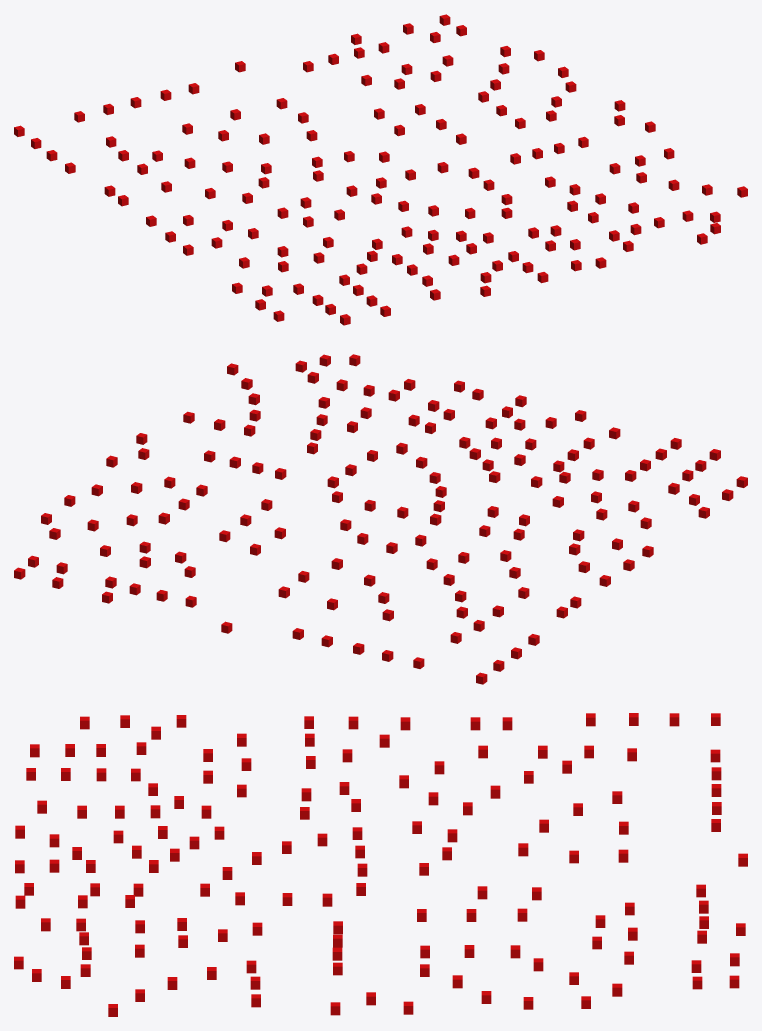
The model's file is Cube_Loca2.glb.
3 views of the same model, one above another, from view 1: azimuth 30°, elevation 25°; view 2: azimuth 150°, elevation 25°; view 3: azimuth 270°, elevation 25° (orthographic). The views are drawn at different scales.
Size of the model in its own units: 29.25 by 0.4057 by 30.75.
